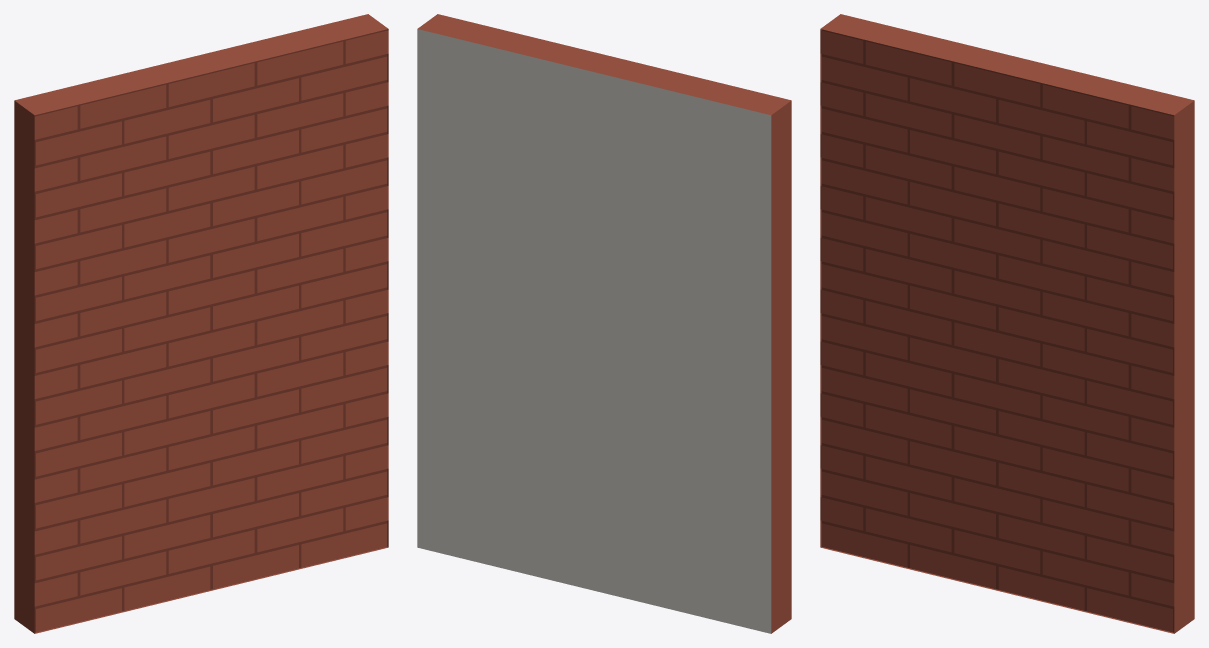
File: SC_Bld_Villa_Wall_Brick_2m.gltf
The picture shows the model from 3 angles, left to right: view 1: azimuth 30°, elevation 25°; view 2: azimuth 150°, elevation 25°; view 3: azimuth 330°, elevation 25°; orthographic projection.
Parts seen in each view (by area): view 1: SC_Bld_Villa_Wall_Brick_2m; view 2: SC_Bld_Villa_Wall_Brick_2m; view 3: SC_Bld_Villa_Wall_Brick_2m.
Boxes of the visible parts, x1,y1,x2,y2 form: SC_Bld_Villa_Wall_Brick_2m: (14,14,388,633); SC_Bld_Villa_Wall_Brick_2m: (417,14,791,633); SC_Bld_Villa_Wall_Brick_2m: (820,14,1194,633).
Bounding box in the file's own units: 2 × 2.8 × 0.2.
1 material, 1 textured.
